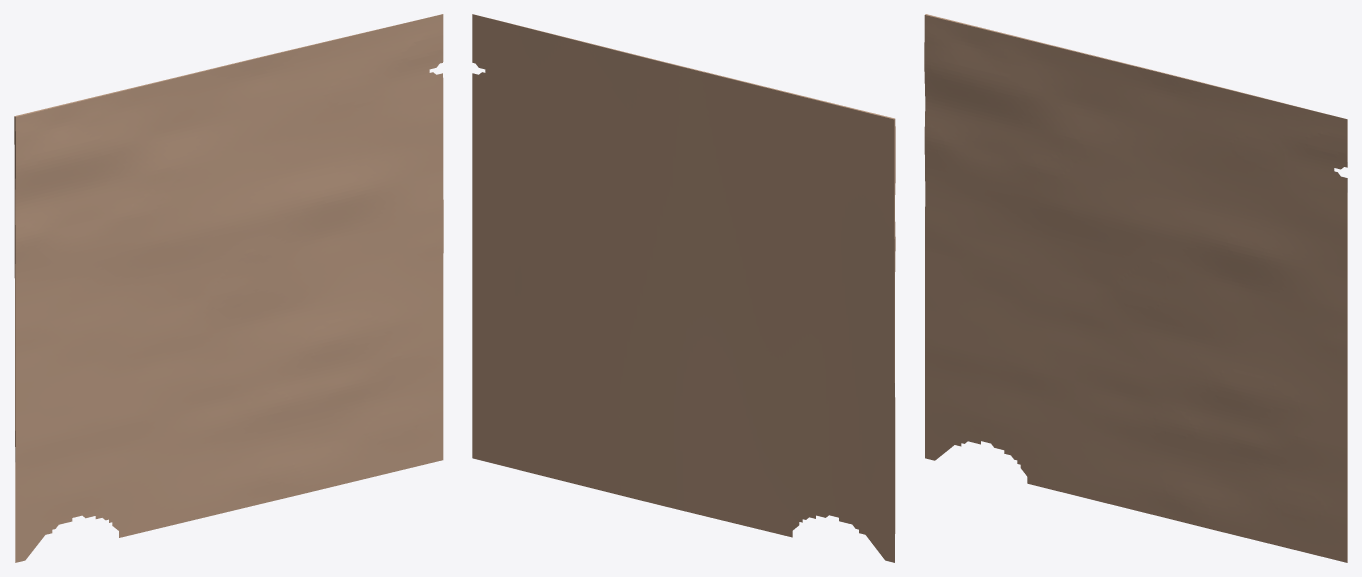
Rendered from L10_shell.glb.
3 views of the same model, side by side, from view 1: azimuth 30°, elevation 25°; view 2: azimuth 150°, elevation 25°; view 3: azimuth 330°, elevation 25° (orthographic).
Visible parts, largest first — view 1: world; view 2: world; view 3: world.
Boxes of the visible parts, box(x1,y1,x2,y2) form: world: box(14, 14, 443, 562); world: box(472, 14, 895, 562); world: box(924, 14, 1347, 562).
Size of the model in its own units: 12800 by 12800 by 152.
